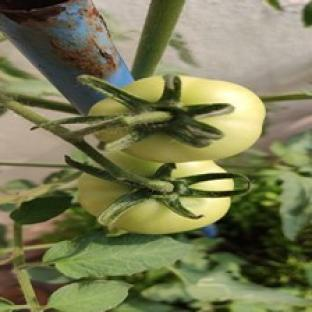Tomato: (124, 76, 264, 162), (115, 197, 231, 233)
